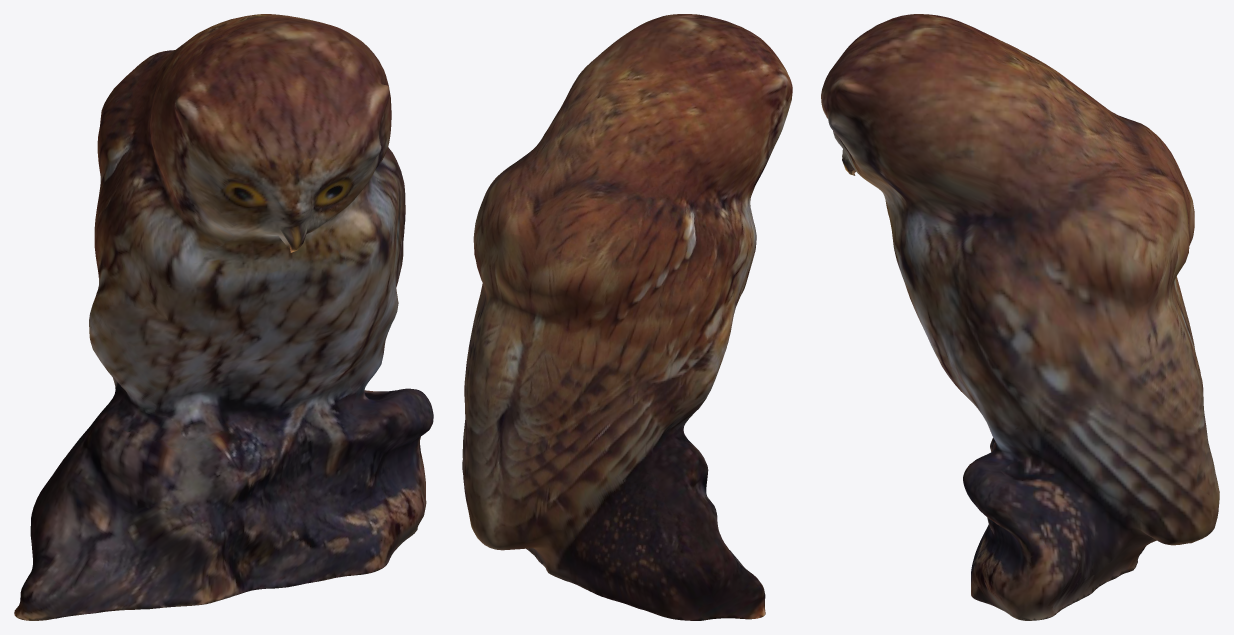
The model's file is northernSawWhetOwl.dae.
3 views of the same model, side by side, from view 1: azimuth 30°, elevation 25°; view 2: azimuth 150°, elevation 25°; view 3: azimuth 270°, elevation 25° (orthographic). The views are drawn at different scales.
Visible parts, largest first — view 1: model_mesh; view 2: model_mesh; view 3: model_mesh.
Part boxes in pixels (box(x1,y1,x2,y2)): model_mesh: box(14, 14, 433, 620); model_mesh: box(462, 14, 792, 620); model_mesh: box(821, 14, 1219, 620).
Size of the model in its own units: 0.1459 by 0.1498 by 0.2209.
1 material, 1 textured.
